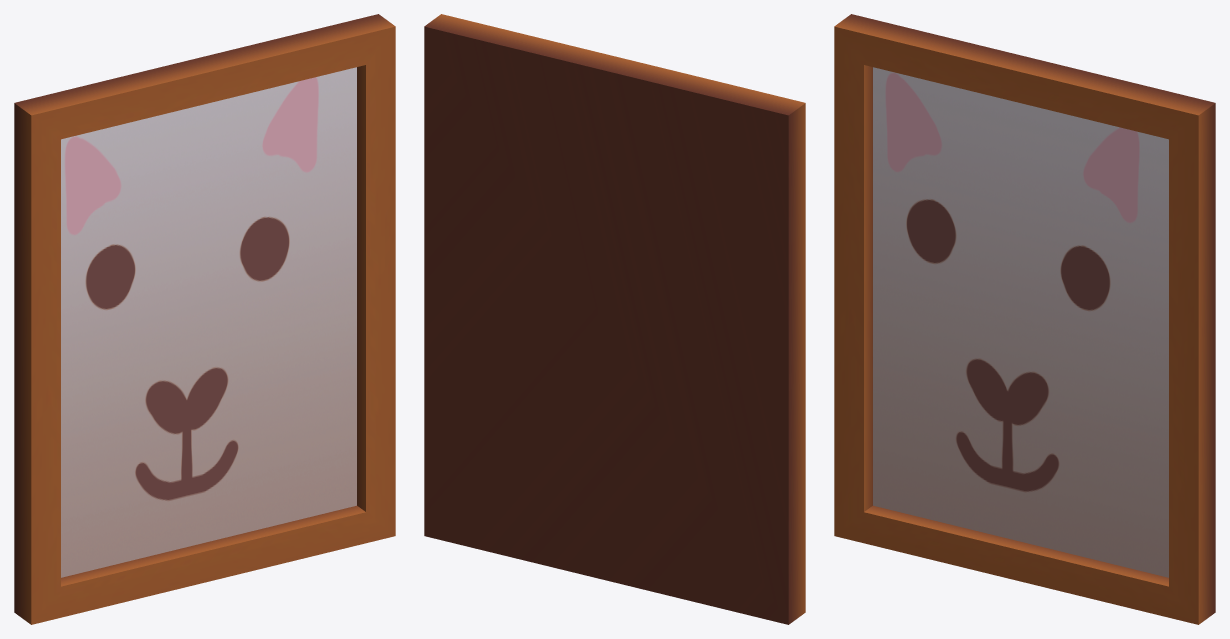
The model's file is M_frame01.FBX.
The picture shows the model from 3 angles, left to right: view 1: azimuth 30°, elevation 25°; view 2: azimuth 150°, elevation 25°; view 3: azimuth 330°, elevation 25°; orthographic projection.
Parts seen in each view (by area): view 1: Box018; view 2: Box018; view 3: Box018.
Boxes of the visible parts, left/top/right/bottom form: Box018: left=14, top=14, right=395, bottom=624; Box018: left=424, top=14, right=805, bottom=624; Box018: left=834, top=14, right=1215, bottom=624.
Size of the model in its own units: 53.05 by 4.33 by 70.86.
